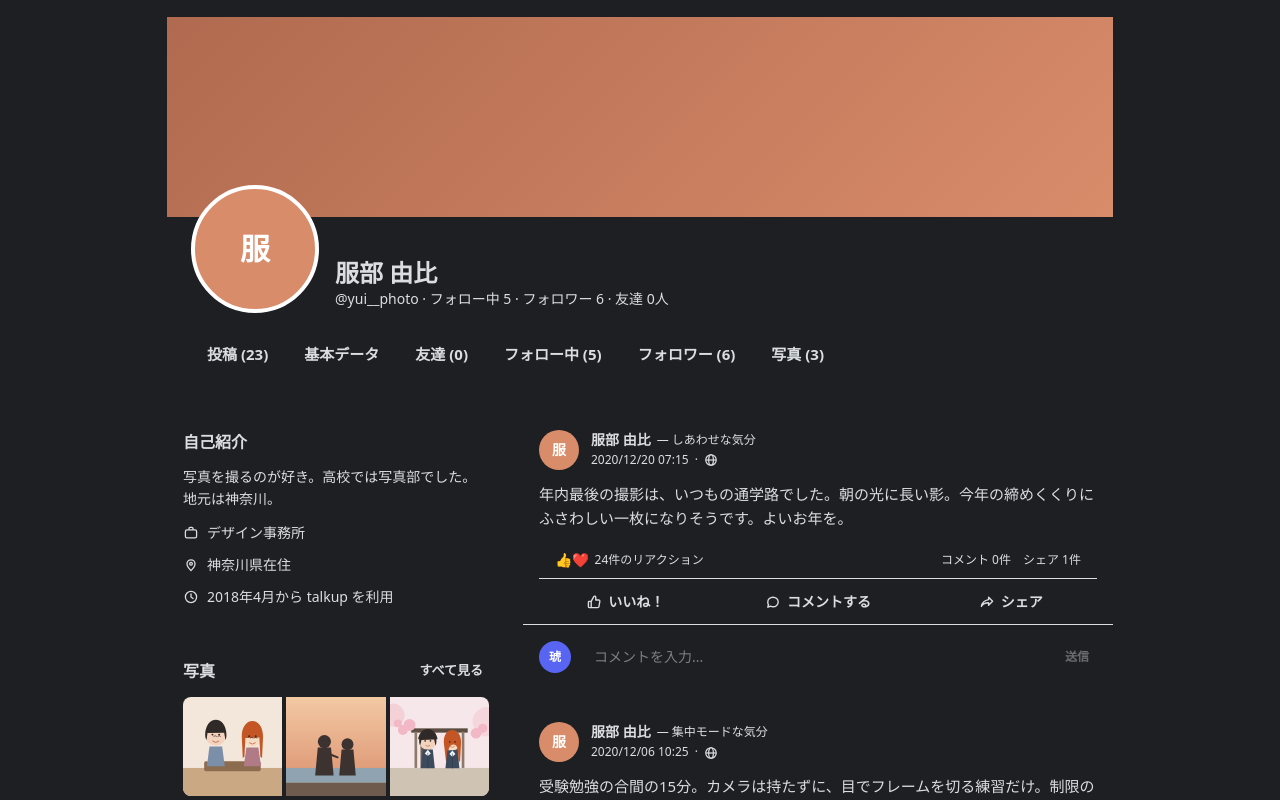
Scenario: ProfileView（u40） › u40 のフォロワー一覧で、写真部5人には相互フォローを表示し χ（imperial_chi）だけ出さない
The width and height of the screenshot is (1280, 800).
Check: the tab "フォロー中 (5)" is shown, box left=488, top=329, right=618, bottom=380
Click the tab "フォロワー (6)": (687, 354) left=622, top=329, right=751, bottom=380
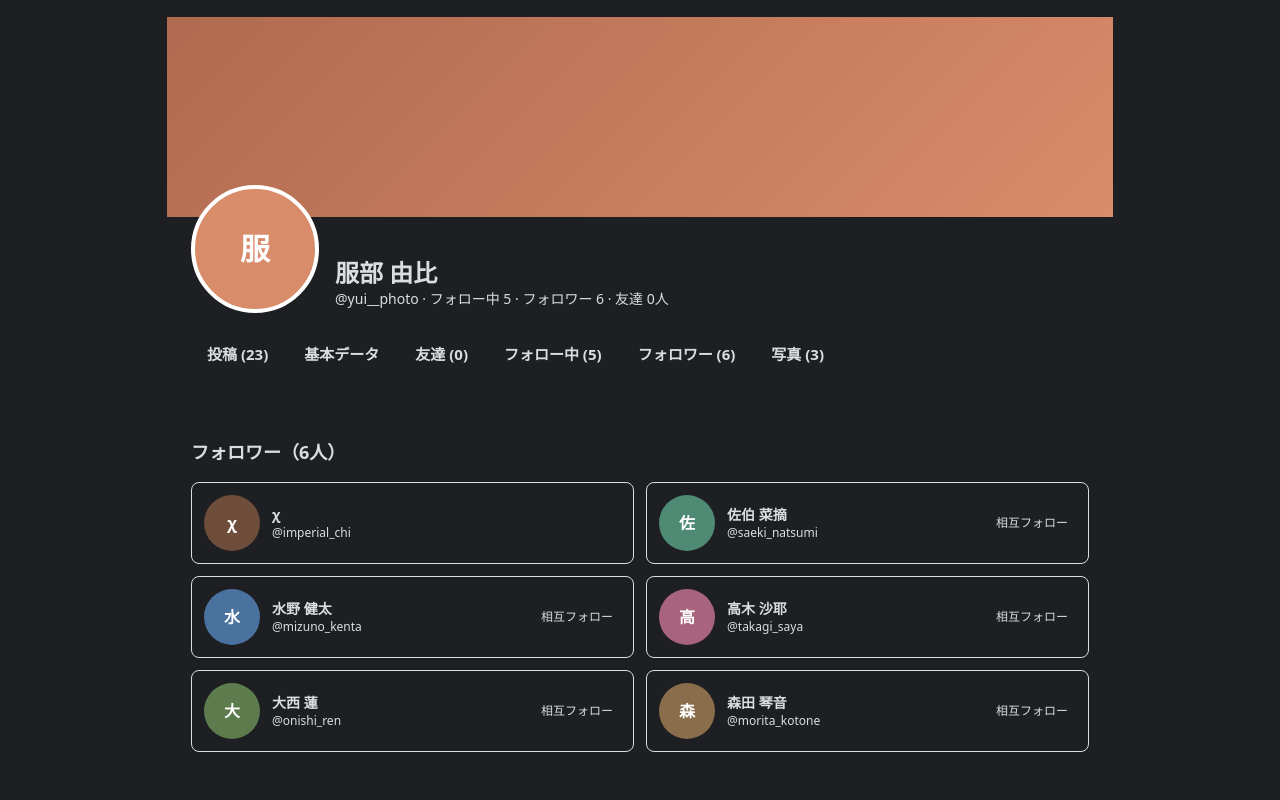
Check: the link "χ χ @imperial_chi" does not show "相互フォロー", box left=191, top=482, right=634, bottom=564
Check: the text "相互フォロー" is shown 5 times, box left=996, top=514, right=1068, bottom=530; left=541, top=608, right=613, bottom=624; left=996, top=608, right=1068, bottom=624; left=541, top=702, right=613, bottom=718; left=996, top=702, right=1068, bottom=718
